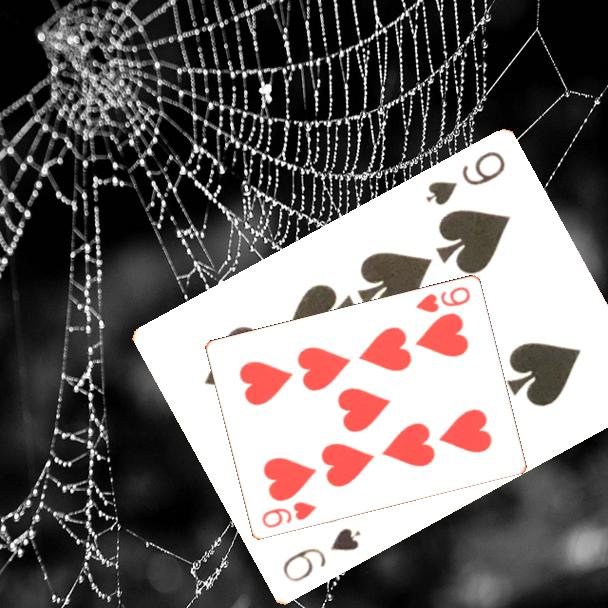h09: (258, 498, 319, 531), (412, 283, 473, 316)
s09: (422, 148, 509, 209), (278, 525, 364, 586)
